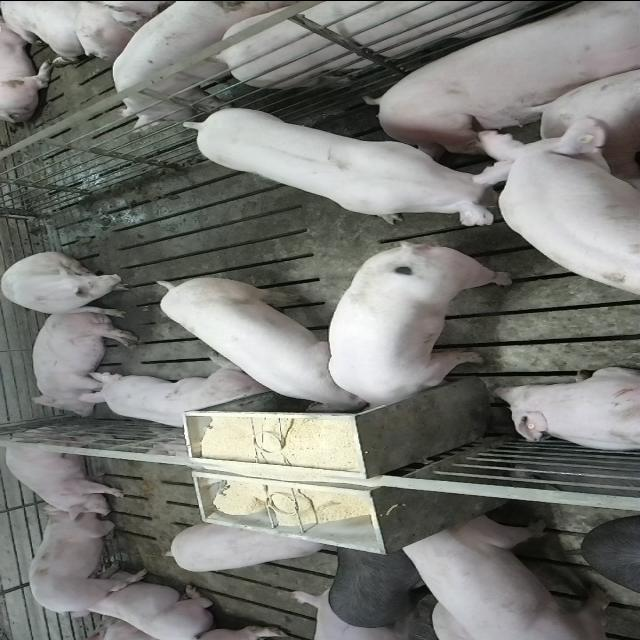Feeding: (326, 245, 516, 418), (150, 273, 366, 410)
Lateral_lying: (366, 3, 640, 156), (28, 308, 140, 418)
Sitting: (3, 251, 140, 316)
Standing: (183, 105, 524, 228), (208, 0, 628, 89), (479, 117, 640, 293), (394, 514, 614, 638), (108, 0, 276, 123), (27, 508, 147, 614), (2, 431, 131, 518), (160, 521, 328, 575), (327, 544, 431, 628)
Sternal_lying: (77, 358, 267, 431), (489, 366, 640, 454), (75, 580, 216, 639)
